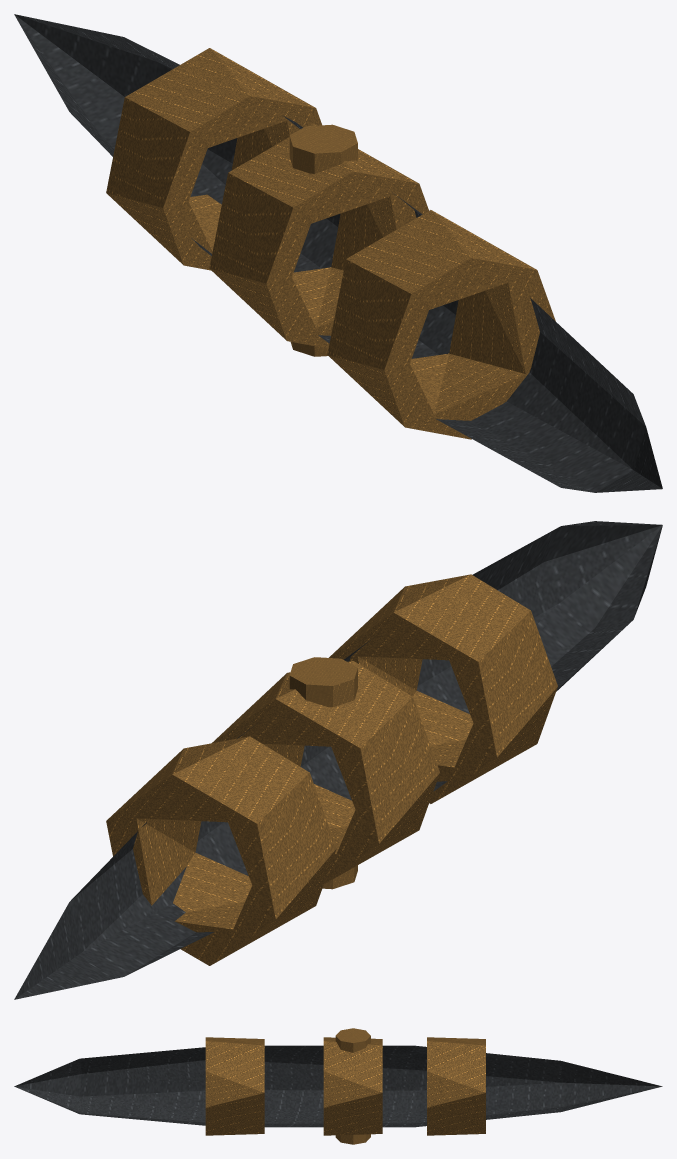
File: chronal-compact-dart-ready-lod1.glb
The picture shows the model from 3 angles, top to bottom: view 1: azimuth 30°, elevation 25°; view 2: azimuth 150°, elevation 25°; view 3: azimuth 270°, elevation 25°; orthographic projection. The views are drawn at different scales.
Visible parts, largest first — view 1: Compact double-ended dart, Dart brass locking collar, Dart brass locking collar.001, Dart brass locking collar.002, Dart collar stud.001; view 2: Compact double-ended dart, Dart brass locking collar.002, Dart brass locking collar, Dart brass locking collar.001, Dart collar stud.001; view 3: Compact double-ended dart, Dart brass locking collar, Dart brass locking collar.002, Dart brass locking collar.001, Dart collar stud.001, Dart collar stud.
Part boxes in pixels (x1,y1,x2,y2): Compact double-ended dart: [14, 14, 662, 492]; Dart brass locking collar: [327, 210, 555, 439]; Dart brass locking collar.001: [209, 123, 428, 348]; Dart brass locking collar.002: [106, 48, 321, 270]; Dart collar stud.001: [289, 124, 357, 173]; Compact double-ended dart: [14, 521, 662, 999]; Dart brass locking collar.002: [106, 736, 336, 965]; Dart brass locking collar: [329, 574, 557, 803]; Dart brass locking collar.001: [212, 661, 439, 883]; Dart collar stud.001: [289, 657, 357, 707]; Compact double-ended dart: [14, 1045, 662, 1127]; Dart brass locking collar: [205, 1037, 264, 1135]; Dart brass locking collar.002: [427, 1037, 485, 1135]; Dart brass locking collar.001: [323, 1037, 382, 1135]; Dart collar stud.001: [335, 1028, 370, 1052]; Dart collar stud: [335, 1134, 370, 1144].
Bounding box in the file's own units: 0.034 × 0.038 × 0.22.
Materials: 2 (2 with a texture image).
